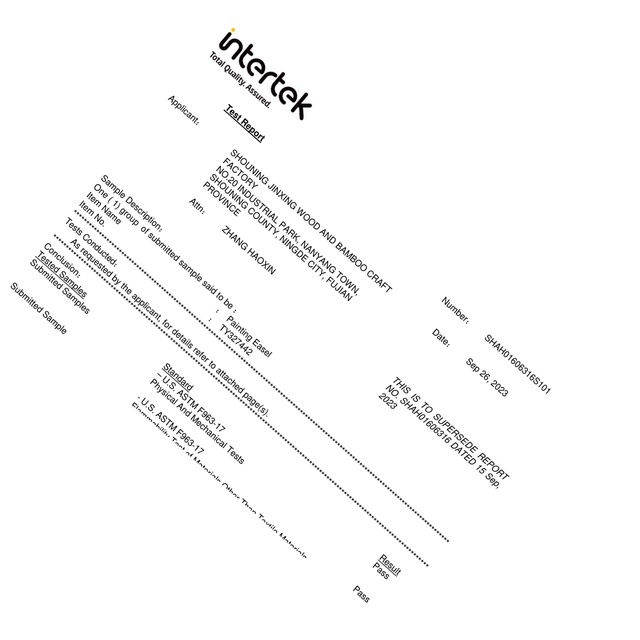intertek: (217, 28, 314, 123)
